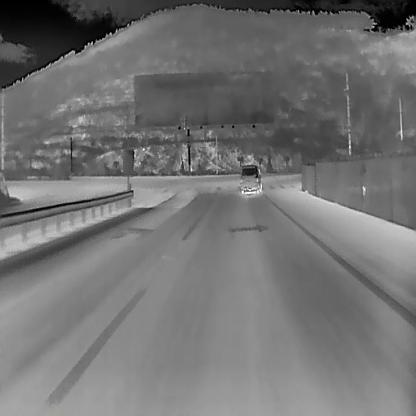car: (240, 164, 261, 194)
